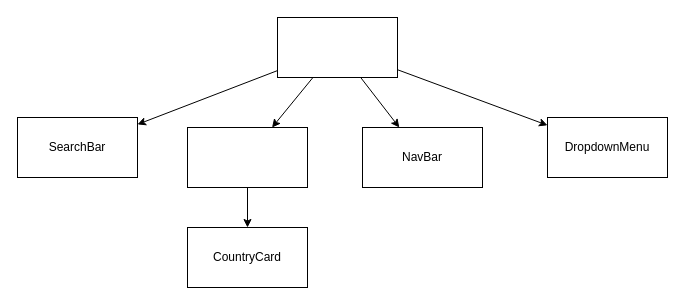
This 685x305 diagram has some shape labels left out. The centre of each missing label's shape, as x and y in pixels:
"App" belongs at point (337, 47).
"CountryCardsList" belongs at point (247, 157).
